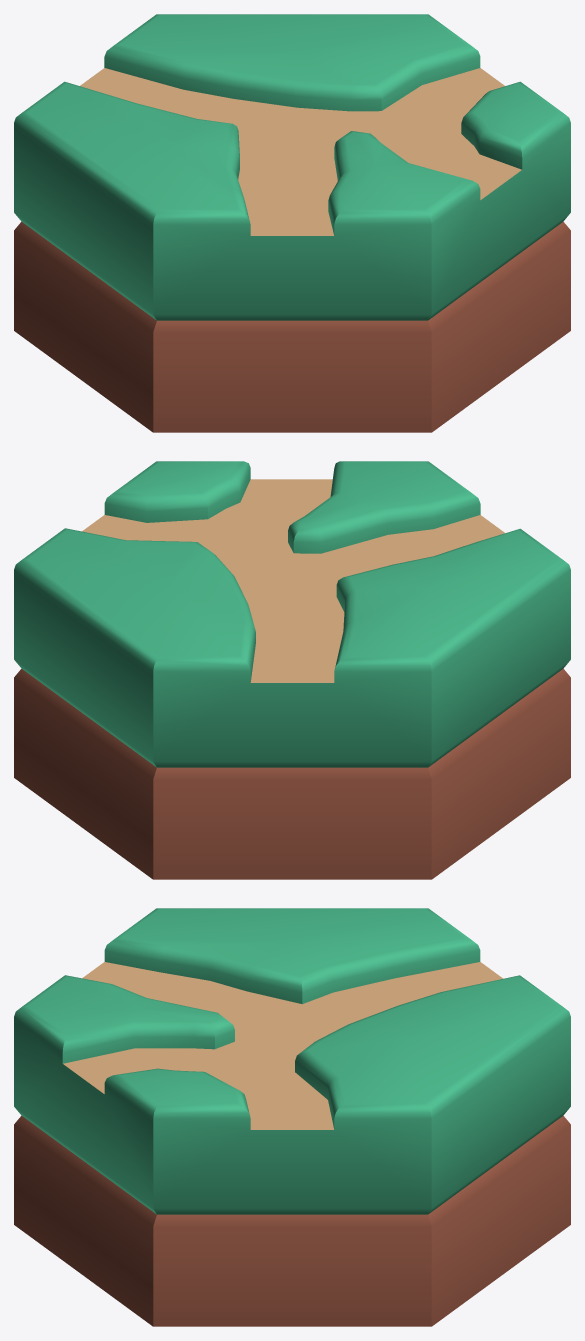
File: hex_forest_roadi_detail.glb
3 views of the same model, one above another, from view 1: azimuth 30°, elevation 25°; view 2: azimuth 150°, elevation 25°; view 3: azimuth 270°, elevation 25° (orthographic).
Parts seen in each view (by area): view 1: hex_forest_roadI_detail; view 2: hex_forest_roadI_detail; view 3: hex_forest_roadI_detail.
Boxes of the visible parts, <box> form: hex_forest_roadI_detail: <box>14,14,570,432</box>; hex_forest_roadI_detail: <box>14,461,570,879</box>; hex_forest_roadI_detail: <box>14,908,570,1326</box>.
Size of the model in its own units: 8 by 4 by 9.24.
